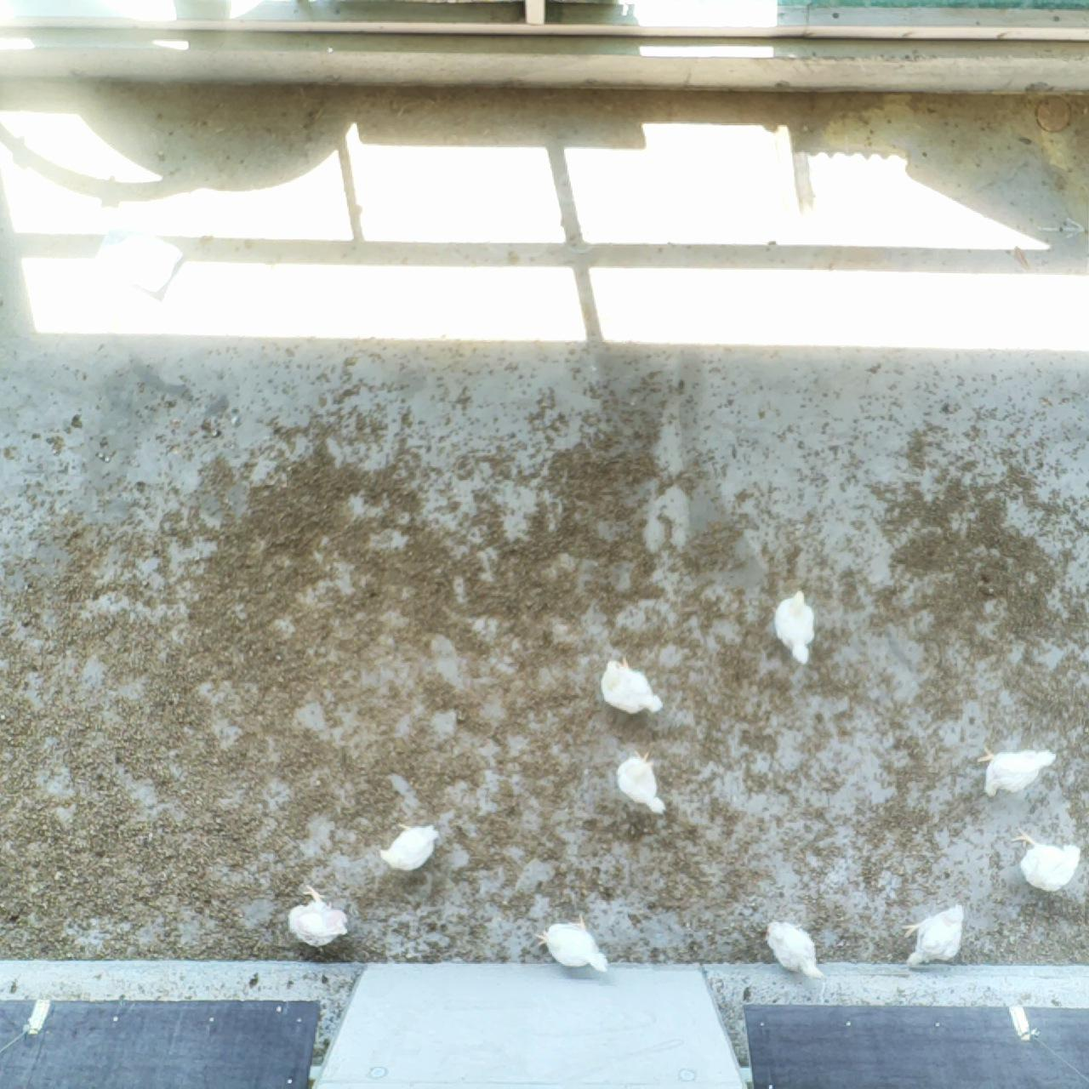chicken: (533, 908, 614, 974), (973, 741, 1062, 801), (899, 899, 969, 975), (757, 913, 831, 984), (1010, 826, 1083, 892), (285, 884, 355, 949), (598, 654, 665, 720), (614, 748, 669, 820), (771, 587, 818, 670), (376, 819, 441, 877)
